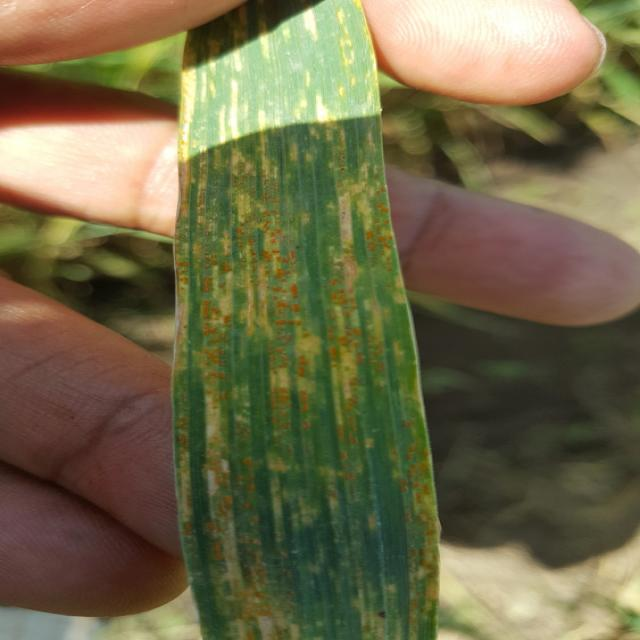wheat-yellowrust: (169, 0, 441, 640)
